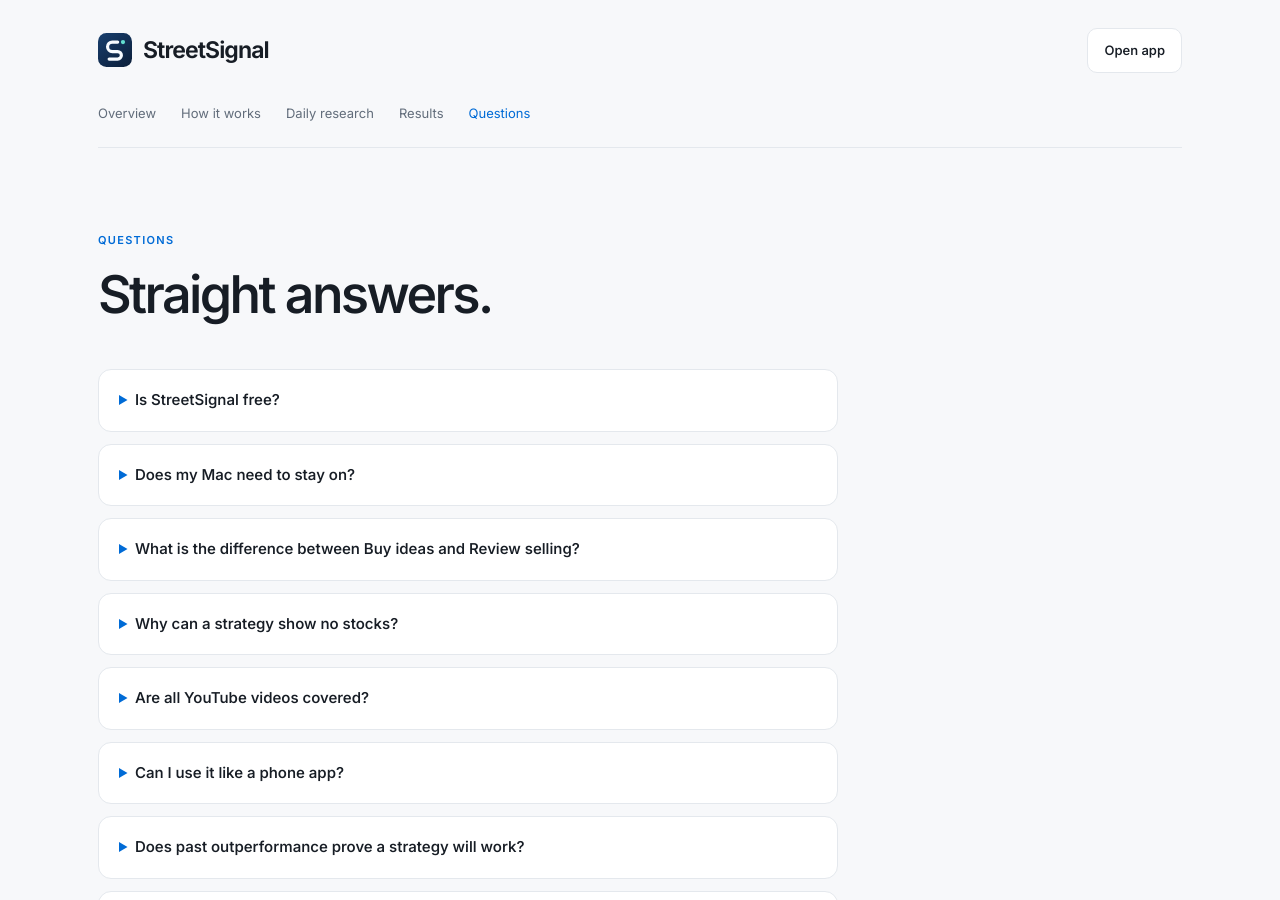
it: free public website › answers the cost and cloud questions while disclosing YouTube gaps
Click the heading "Is StreetSignal free?": click(207, 400) [135, 390, 280, 410]
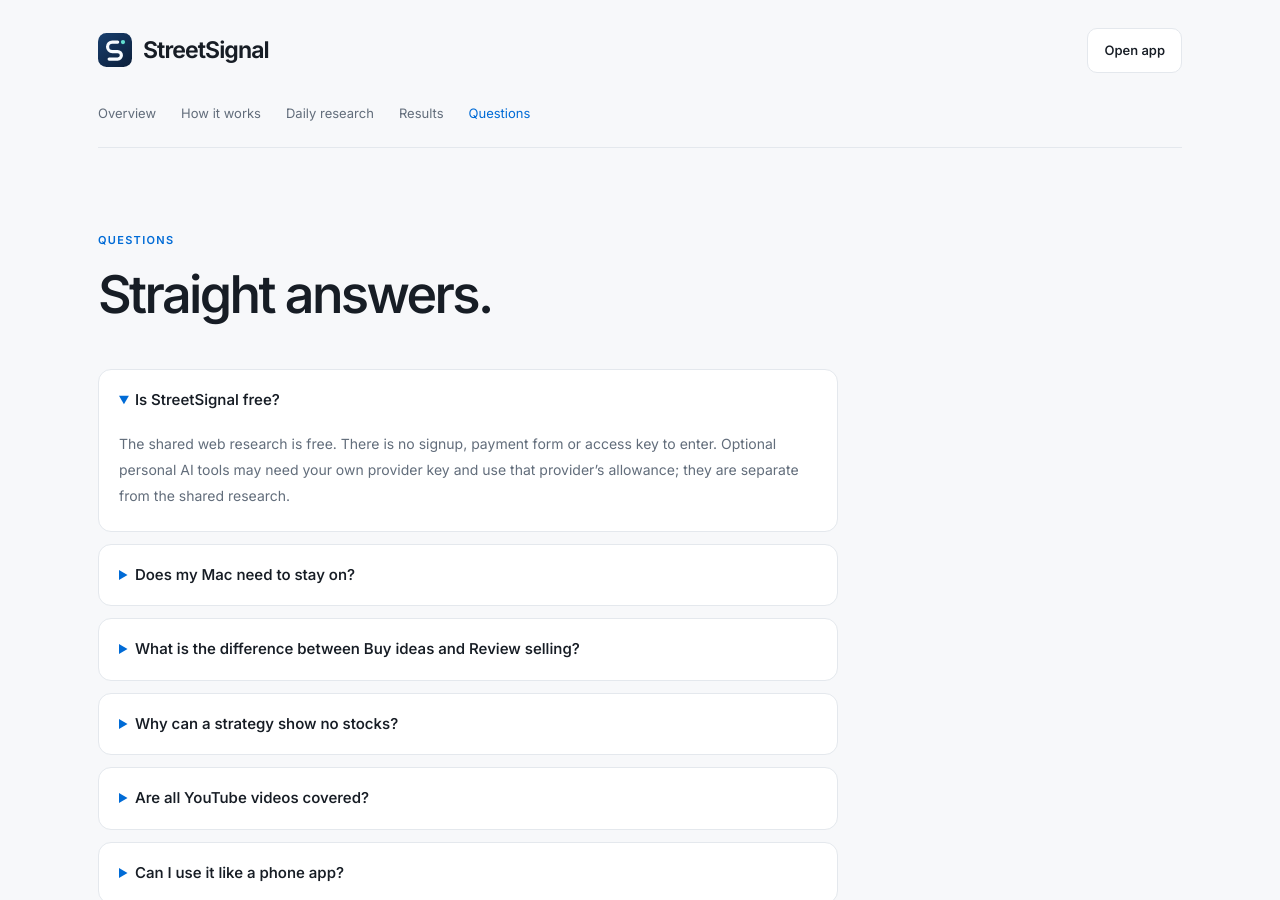
Expected: the text "Is StreetSignal free?" shows "Optional personal AI tools may need your own provider key", [119, 435, 798, 504]
Click the heading "Are all YouTube videos covered?": click(252, 798) [135, 788, 369, 807]
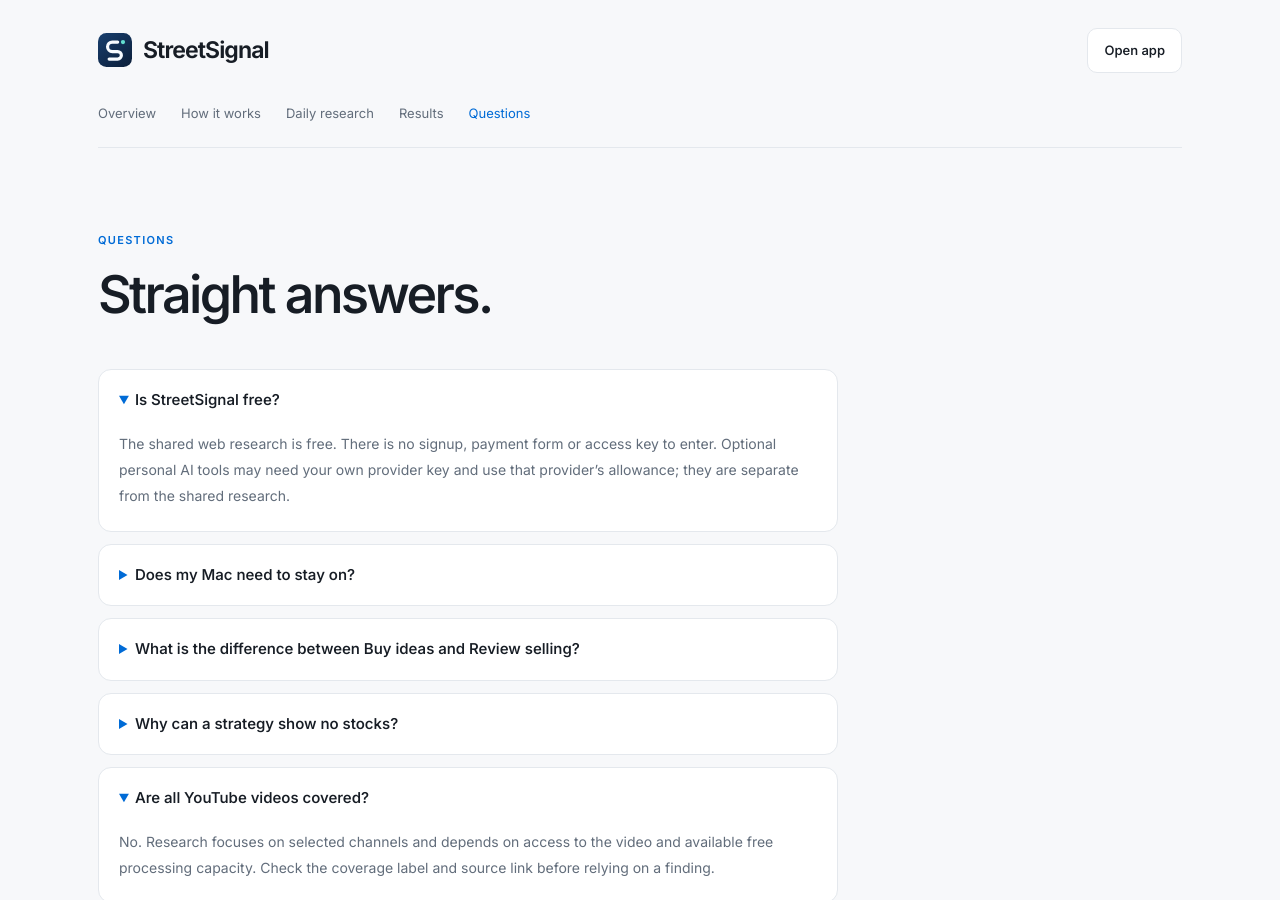
Expected: the text "Research focuses on selected channels" shows "available free processing capacity", [119, 833, 773, 876]
